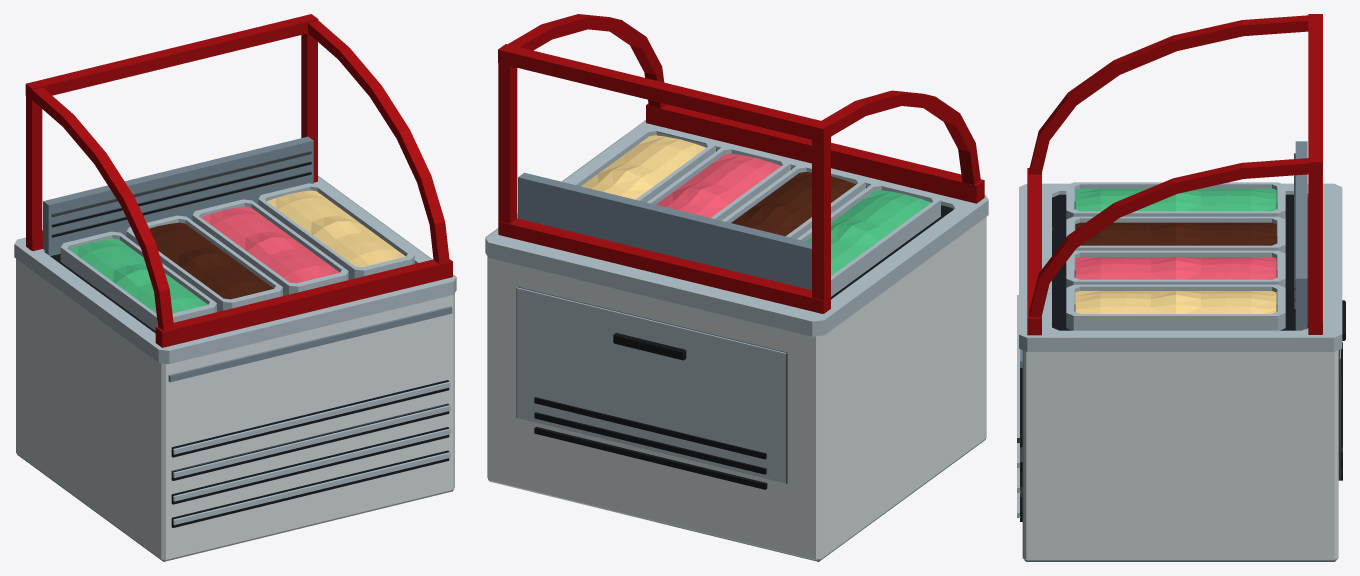
File: IceCreamCabinet.fbx
3 views of the same model, side by side, from view 1: azimuth 30°, elevation 25°; view 2: azimuth 150°, elevation 25°; view 3: azimuth 270°, elevation 25° (orthographic). The views are drawn at different scales.
Visible parts, largest first — view 1: IceCreamCabinet_Body; view 2: IceCreamCabinet_Body; view 3: IceCreamCabinet_Body.
Part boxes in pixels (left/top/right/bottom): IceCreamCabinet_Body: left=14, top=14, right=456, bottom=561; IceCreamCabinet_Body: left=485, top=14, right=988, bottom=561; IceCreamCabinet_Body: left=1017, top=14, right=1345, bottom=561.
Size of what is drawn, in the model's own units: 0.398 by 0.4795 by 0.358.
Materials: 1 (1 with a texture image).
